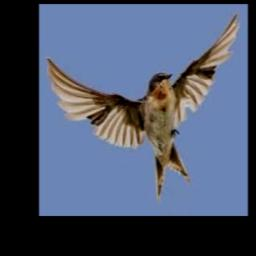Swallow: (46, 11, 239, 205)
